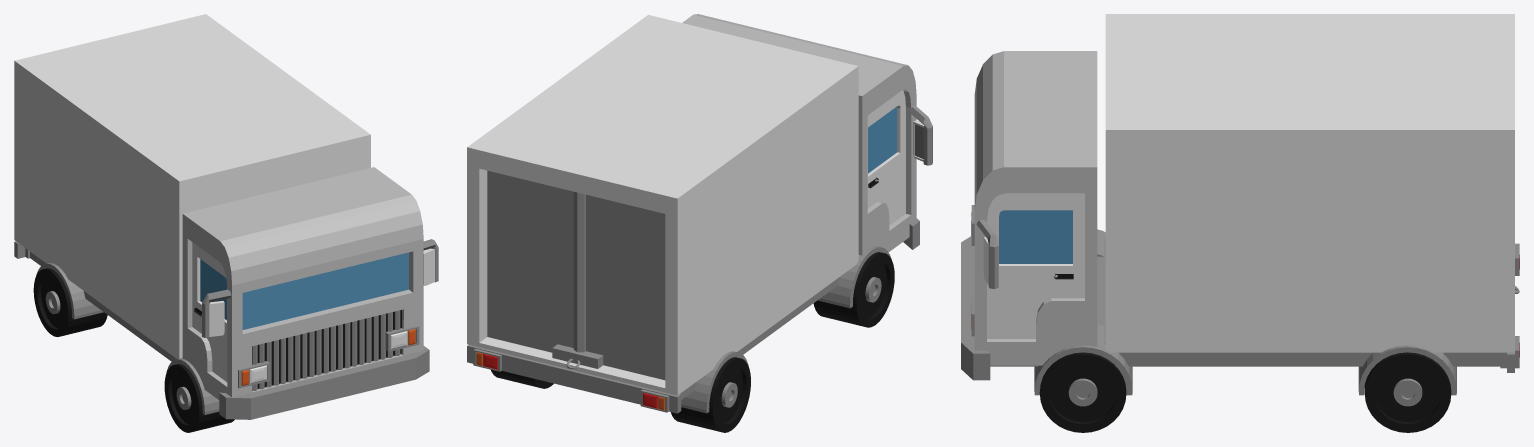
File: Truck.fbx
The picture shows the model from 3 angles, left to right: view 1: azimuth 30°, elevation 25°; view 2: azimuth 150°, elevation 25°; view 3: azimuth 270°, elevation 25°; orthographic projection. The views are drawn at different scales.
Parts seen in each view (by area): view 1: Cube, Cube.001, Cube.004, Cylinder.003, Cylinder.002, Cube.005, Cylinder, Cube.008, Cube.002; view 2: Cube, Cube.001, Cylinder.002, Cube.003, Cylinder, Cylinder.001, Cube.007, Cube.005, Cube.002, Cube.006; view 3: Cube, Cube.001, Cylinder.002, Cube.002, Cylinder, Cube.004, Cube.005.
Boxes of the visible parts, x1,y1,x2,y2 form: Cube: (14, 14, 370, 359); Cube.001: (182, 167, 423, 399); Cube.004: (219, 346, 429, 419); Cylinder.003: (252, 309, 402, 390); Cylinder.002: (33, 268, 234, 432); Cube.005: (202, 239, 438, 337); Cylinder: (36, 263, 219, 414); Cube.008: (238, 326, 419, 388); Cube.002: (30, 251, 401, 389); Cube: (467, 14, 858, 395); Cube.001: (682, 14, 916, 255); Cylinder.002: (491, 252, 894, 432); Cube.003: (467, 345, 681, 413); Cylinder: (681, 246, 891, 413); Cylinder.001: (573, 192, 585, 352); Cube.007: (473, 348, 669, 412); Cube.005: (909, 105, 932, 165); Cube.002: (680, 277, 839, 399); Cube.006: (552, 344, 603, 368); Cube: (1105, 14, 1514, 352); Cube.001: (974, 51, 1097, 365); Cylinder.002: (1039, 352, 1451, 432); Cube.002: (990, 239, 1500, 366); Cylinder: (1034, 229, 1456, 395); Cube.004: (961, 236, 990, 380); Cube.005: (976, 220, 998, 288).
Size of the model in its own units: 825 by 806 by 1365.
